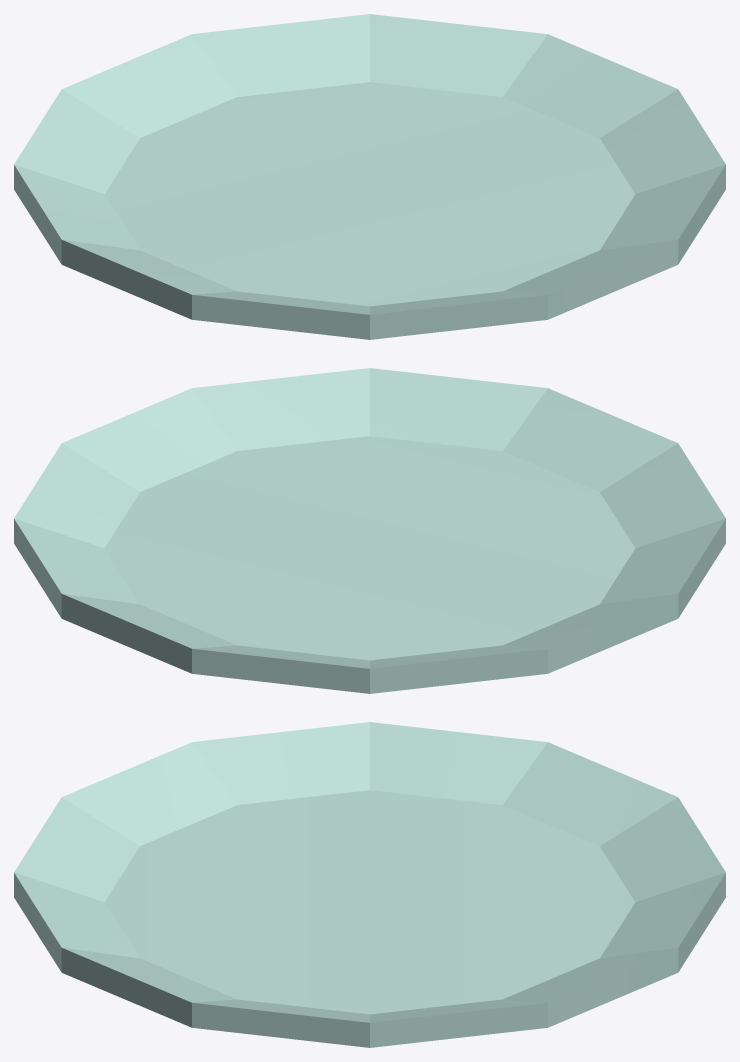
File: plate2.fbx
3 views of the same model, one above another, from view 1: azimuth 30°, elevation 25°; view 2: azimuth 150°, elevation 25°; view 3: azimuth 270°, elevation 25° (orthographic).
Visible parts, largest first — view 1: Cylinder.008; view 2: Cylinder.008; view 3: Cylinder.008.
Boxes of the visible parts, box(x1,y1,x2,y2) form: Cylinder.008: box(14, 14, 725, 339); Cylinder.008: box(14, 368, 725, 693); Cylinder.008: box(14, 722, 725, 1047).
Bounding box in the file's own units: 68.15 × 5.8 × 68.15.
